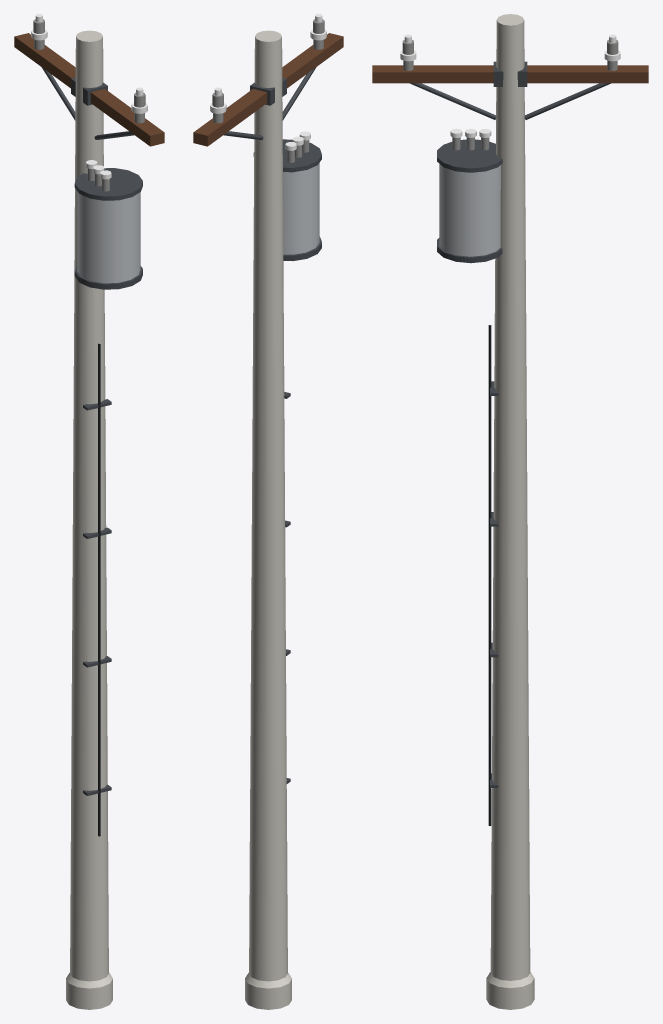
File: poste-energia-transformador.glb
3 renders of one model, left to right at view 1: azimuth 30°, elevation 25°; view 2: azimuth 150°, elevation 25°; view 3: azimuth 270°, elevation 25°, orthographic.
Visible parts, largest first — view 1: Poste, Transformador, Cruzeta, Telecom, Isoladores, Ferragens, Buchas; view 2: Poste, Transformador, Cruzeta, Isoladores, Ferragens, Buchas; view 3: Poste, Transformador, Cruzeta, Telecom, Ferragens, Isoladores, Buchas.
Part boxes in pixels (x1,y1,x2,y2): Poste: [66, 30, 112, 1009]; Transformador: [74, 168, 142, 289]; Cruzeta: [14, 33, 164, 146]; Telecom: [83, 343, 111, 836]; Isoladores: [31, 14, 147, 123]; Ferragens: [41, 67, 134, 139]; Buchas: [86, 160, 111, 191]; Poste: [245, 30, 291, 1009]; Transformador: [253, 139, 321, 260]; Cruzeta: [193, 33, 343, 146]; Isoladores: [210, 14, 326, 123]; Ferragens: [223, 67, 316, 139]; Buchas: [285, 131, 310, 162]; Poste: [486, 14, 534, 1009]; Transformador: [437, 139, 502, 263]; Cruzeta: [372, 65, 648, 83]; Telecom: [488, 325, 498, 825]; Ferragens: [410, 61, 610, 119]; Isoladores: [400, 34, 620, 70]; Buchas: [450, 128, 491, 150].
Bounding box in the file's own units: 0.58 × 9 × 2.3.
